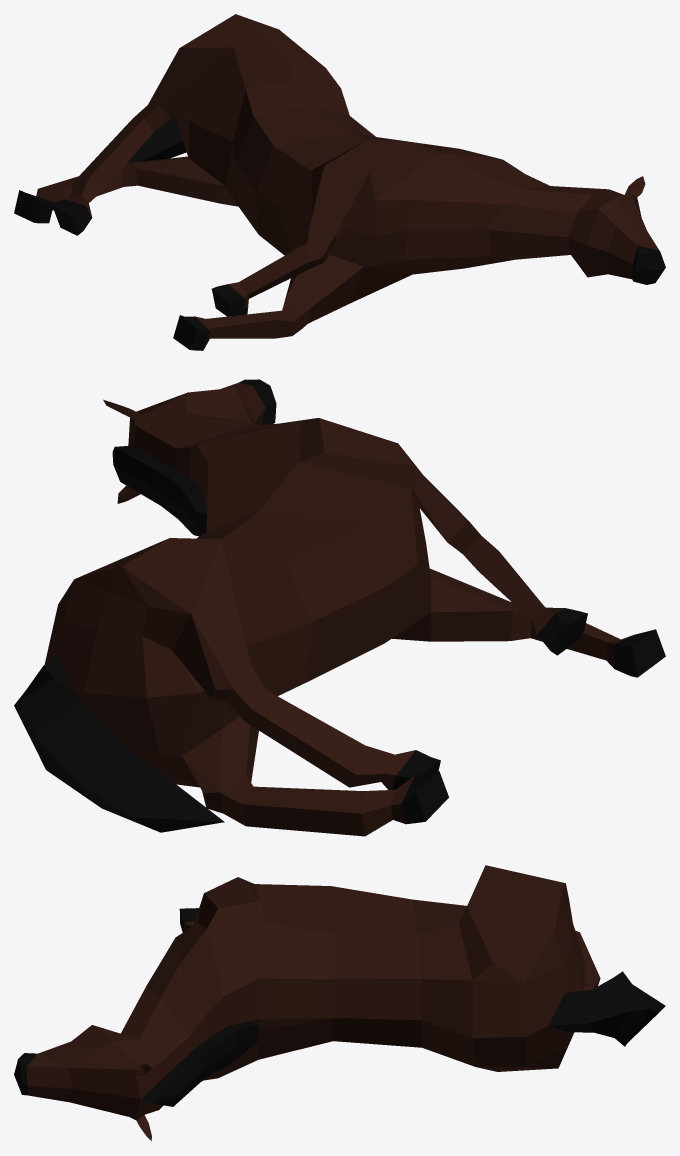
Rendered from Horse_000019.obj.
3 renders of one model, top to bottom at view 1: azimuth 30°, elevation 25°; view 2: azimuth 150°, elevation 25°; view 3: azimuth 270°, elevation 25°, orthographic. The views are drawn at different scales.
Visible parts, largest first — view 1: Horse_Cylinder; view 2: Horse_Cylinder; view 3: Horse_Cylinder.
Boxes of the visible parts, bbox=[...] form: Horse_Cylinder: bbox=[14, 14, 665, 350]; Horse_Cylinder: bbox=[14, 379, 665, 836]; Horse_Cylinder: bbox=[14, 865, 665, 1141].
Size of the model in its own units: 7.42 by 2.74 by 9.12.
